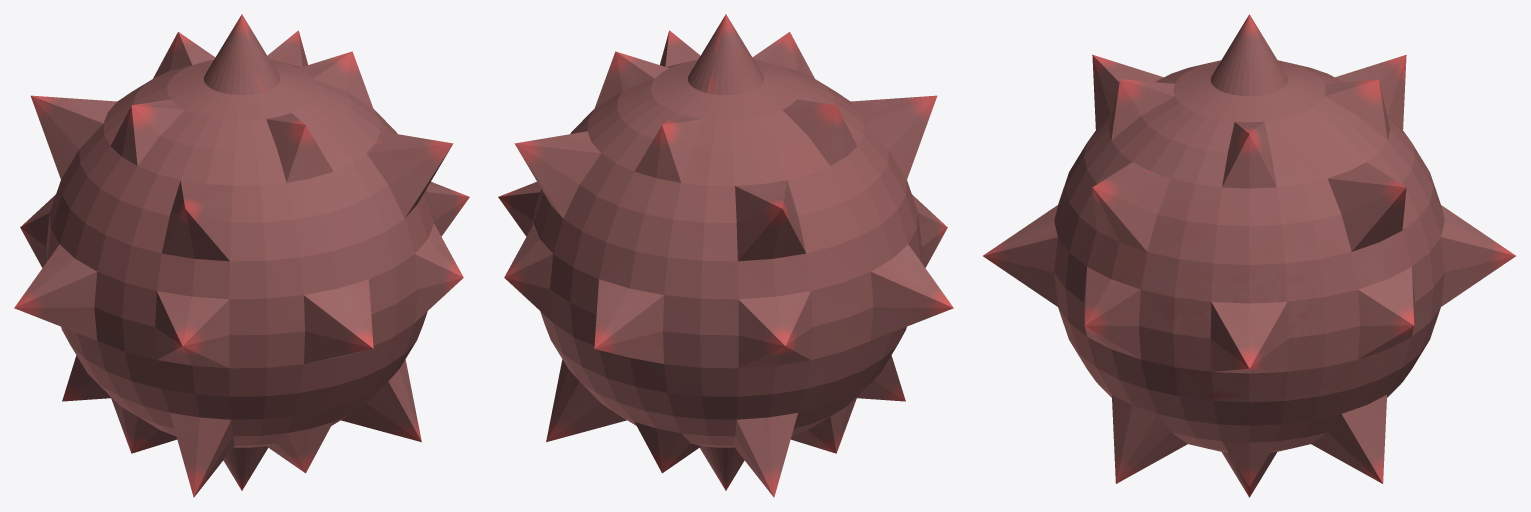
The model's file is bullet.obj.
The picture shows the model from 3 angles, left to right: view 1: azimuth 30°, elevation 25°; view 2: azimuth 150°, elevation 25°; view 3: azimuth 270°, elevation 25°; orthographic projection.
Visible parts, largest first — view 1: 球.001; view 2: 球.001; view 3: 球.001.
Boxes of the visible parts, box(x1,y1,x2,y2) form: 球.001: box(14, 14, 469, 497); 球.001: box(498, 14, 953, 497); 球.001: box(983, 14, 1515, 497).
Bounding box in the file's own units: 1 × 1 × 1.
1 material, 1 textured.
